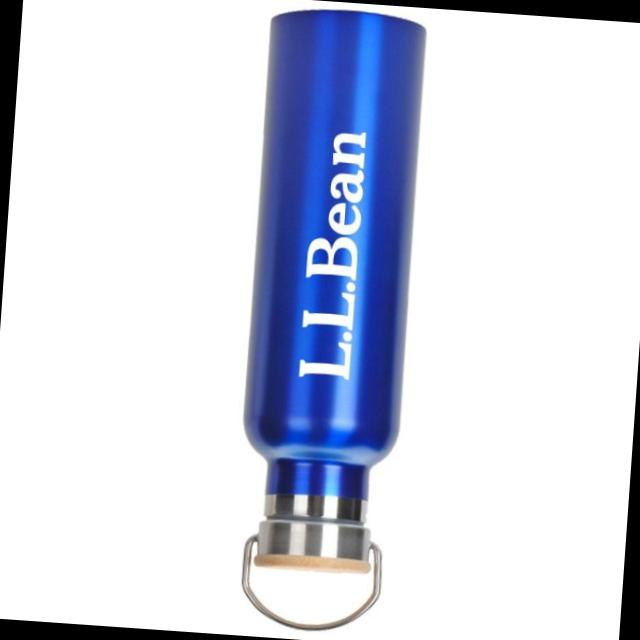plastic_bottle: (204, 0, 457, 639)
